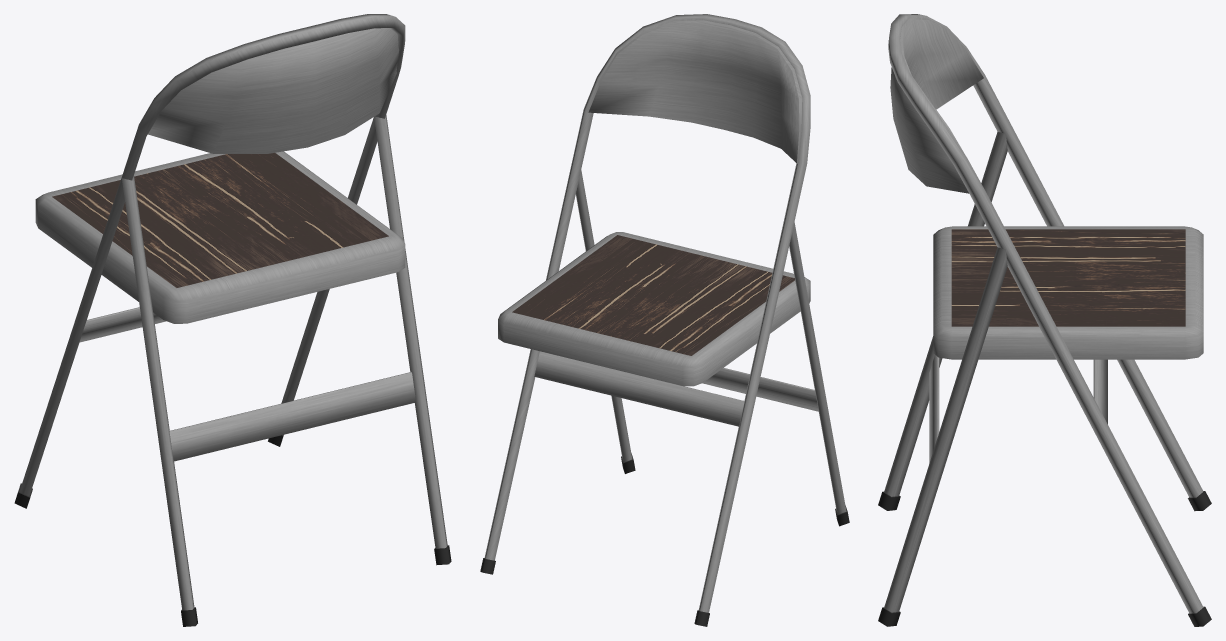
File: chair.fbx
The picture shows the model from 3 angles, left to right: view 1: azimuth 30°, elevation 25°; view 2: azimuth 150°, elevation 25°; view 3: azimuth 270°, elevation 25°; orthographic projection. The views are drawn at different scales.
Parts seen in each view (by area): view 1: Chair; view 2: Chair; view 3: Chair.
Boxes of the visible parts, bbox=[...] form: Chair: bbox=[14, 14, 451, 626]; Chair: bbox=[480, 14, 849, 626]; Chair: bbox=[878, 14, 1211, 626].
Bounding box in the file's own units: 0.4674 × 0.9442 × 0.5376.
